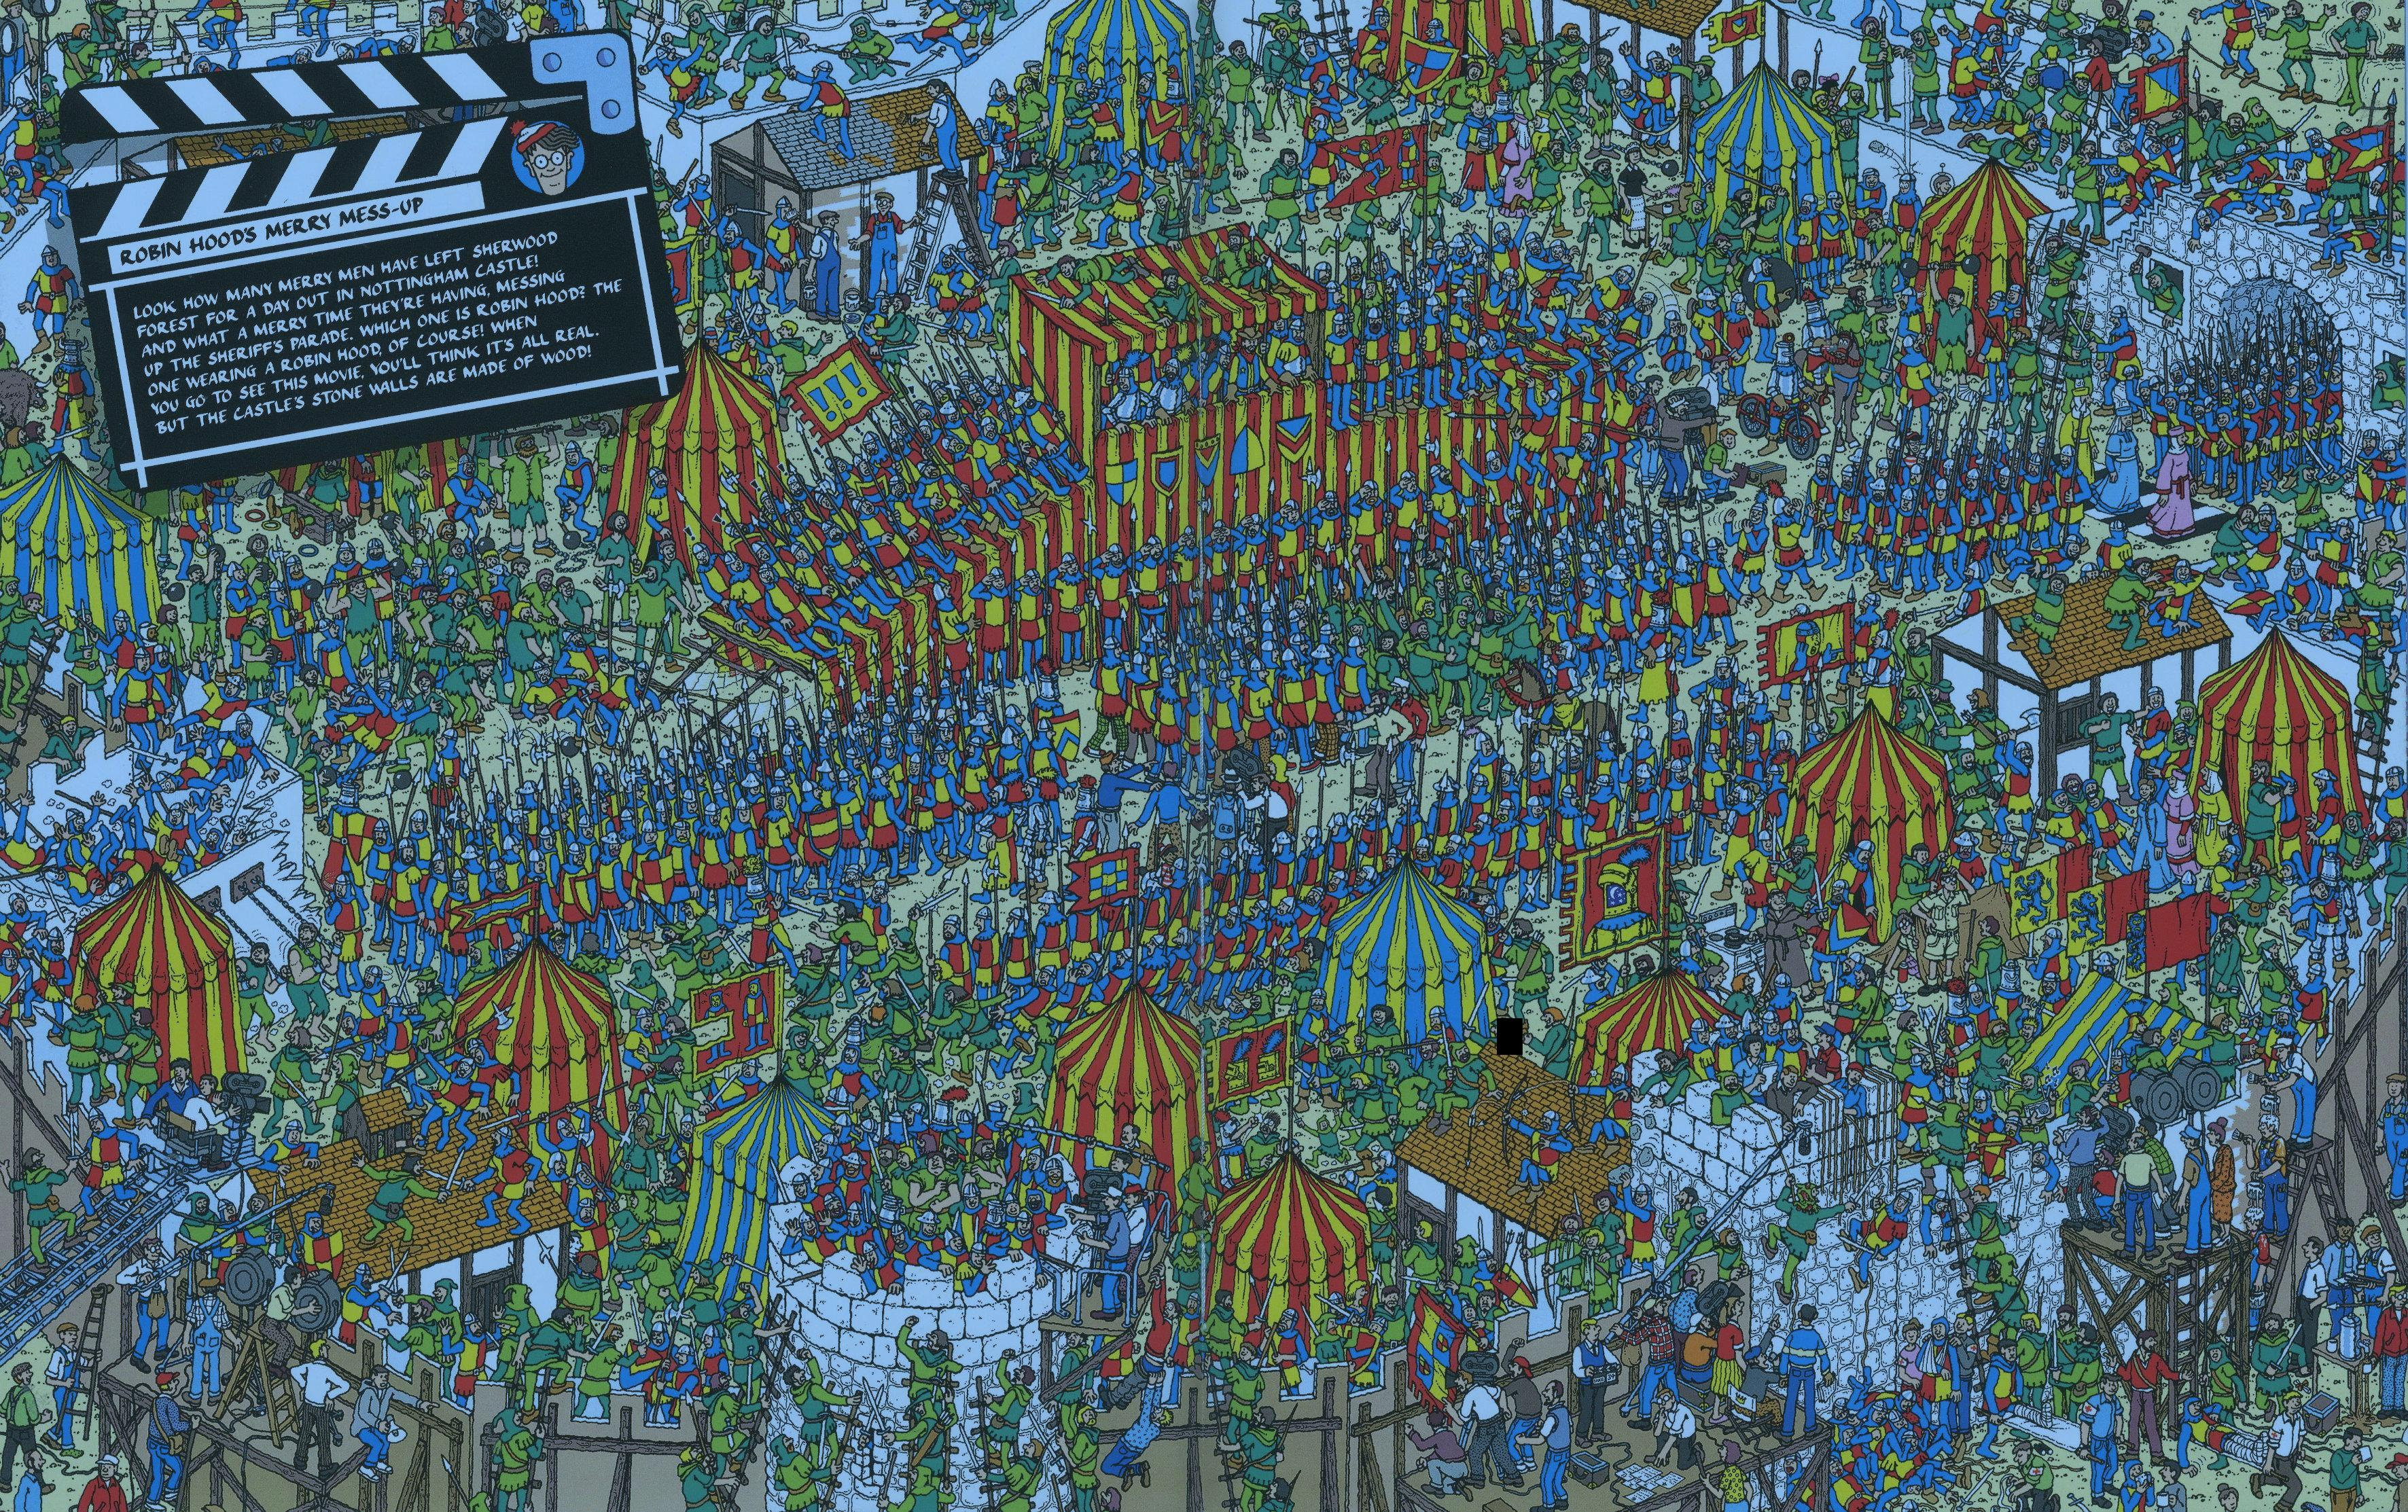waldos: (1817, 336, 1843, 373)
